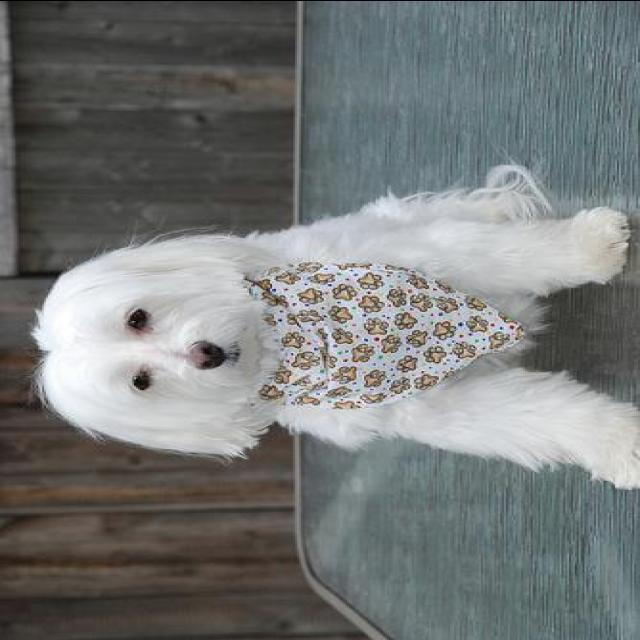maltese_dog: (29, 158, 638, 491)
